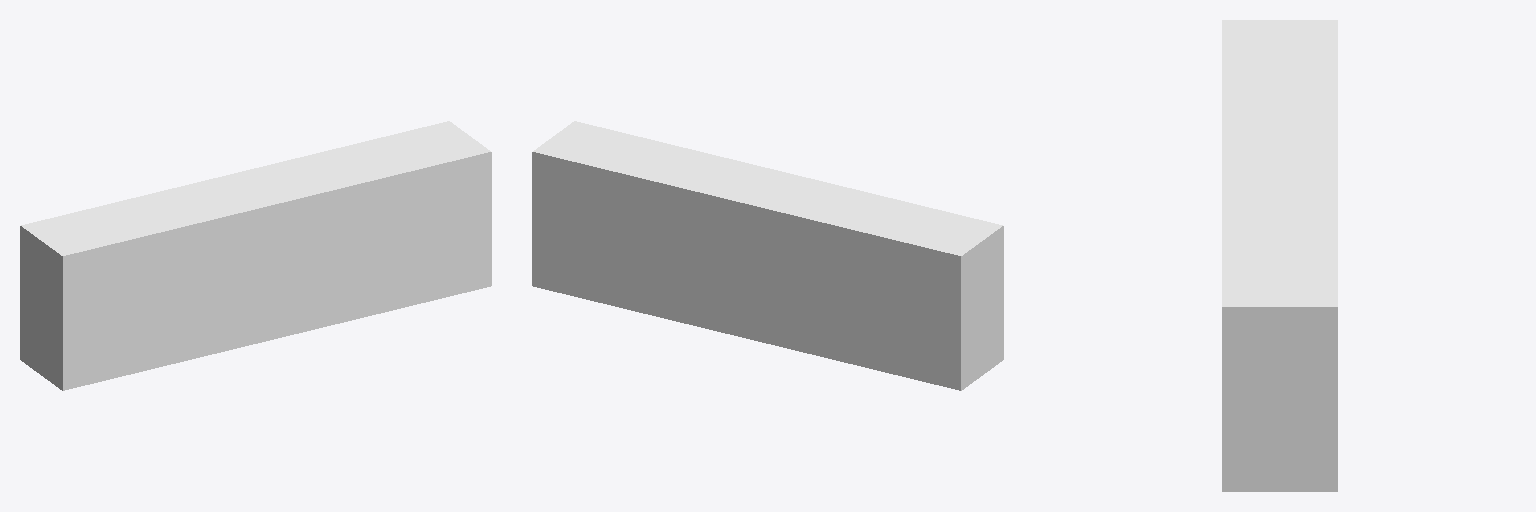
The robot description file, URDF, robot "20x87mmcuboid.SLDPRT":
<?xml version="1.0" encoding="utf-8"?>
<!-- This URDF was automatically created by SolidWorks to URDF Exporter! Originally created by [author] ([email redacted]) 
     Commit Version: 1.5.1-0-g916b5db  Build Version: 1.5.7152.31018
     For more information, please see http://wiki.ros.org/sw_urdf_exporter -->
<robot
  name="20x87mmcuboid.SLDPRT">
  <link
    name="30x17x100mmcuboid">
    <inertial>
      <origin
        xyz="-1.171E-17 -0.0085 1.47665770037451E-18"
        rpy="0 0 0" />
      <mass
        value="0.3335" />
      <inertia
        ixx="4.2953E-05"
        ixy="-2.75793596944338E-37"
        ixz="4.5042E-21"
        iyy="0.00039376"
        iyz="4.48546888557005E-22"
        izz="0.00037169" />
    </inertial>
    <visual>
      <origin
        xyz="0 0 0"
        rpy="1.5707963267949 0 0" />
      <geometry>
        <mesh
          filename="package://30x17x100mmcuboid/meshes/30x17x100mmcuboid.STL" />
      </geometry>
      <material
        name="">
        <color
          rgba="1 1 1 1" />
        <texture
          filename="package://30x17x100mmcuboid/textures/" />
      </material>
    </visual>
    <collision>
      <origin
        xyz="0 0 0"
        rpy="1.5707963267949 0 0" />
      <geometry>
        <mesh
          filename="package://30x17x100mmcuboid/meshes/30x17x100mmcuboid.STL" />
      </geometry>
    </collision>
  </link>
</robot>

--- Render facts (derived) ---
3 views of the same robot in one strip: view 1: azimuth 30°, elevation 25°; view 2: azimuth 150°, elevation 25°; view 3: azimuth 270°, elevation 25° (orthographic).
Model 20x87mmcuboid.SLDPRT with 1 links and 0 joints (none), rooted at 30x17x100mmcuboid, posed all joints at 0.
Links seen in each view (by area): view 1: 30x17x100mmcuboid; view 2: 30x17x100mmcuboid; view 3: 30x17x100mmcuboid.
Boxes of the visible links, x1,y1,x2,y2 form: 30x17x100mmcuboid: [20, 121, 491, 390]; 30x17x100mmcuboid: [532, 121, 1003, 390]; 30x17x100mmcuboid: [1222, 20, 1337, 491].
Size in the robot's own frame: 0.1 by 0.017 by 0.03 metres.
Meshes: 1 distinct files referenced, 1 mesh visuals loaded (1 binary STL).